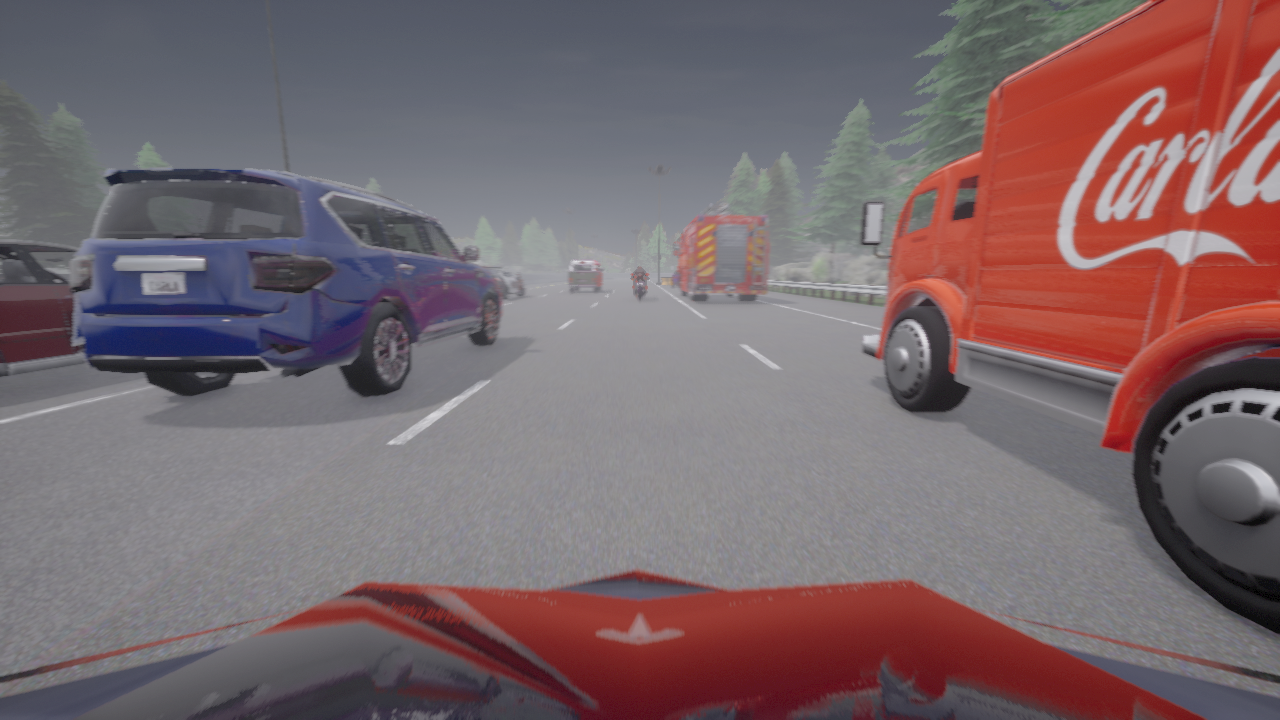cyclist: (859, 0, 1279, 634), (0, 569, 1279, 719), (70, 168, 501, 397), (674, 204, 767, 301), (482, 266, 524, 299), (568, 259, 603, 292), (631, 273, 648, 300), (671, 270, 678, 287)
